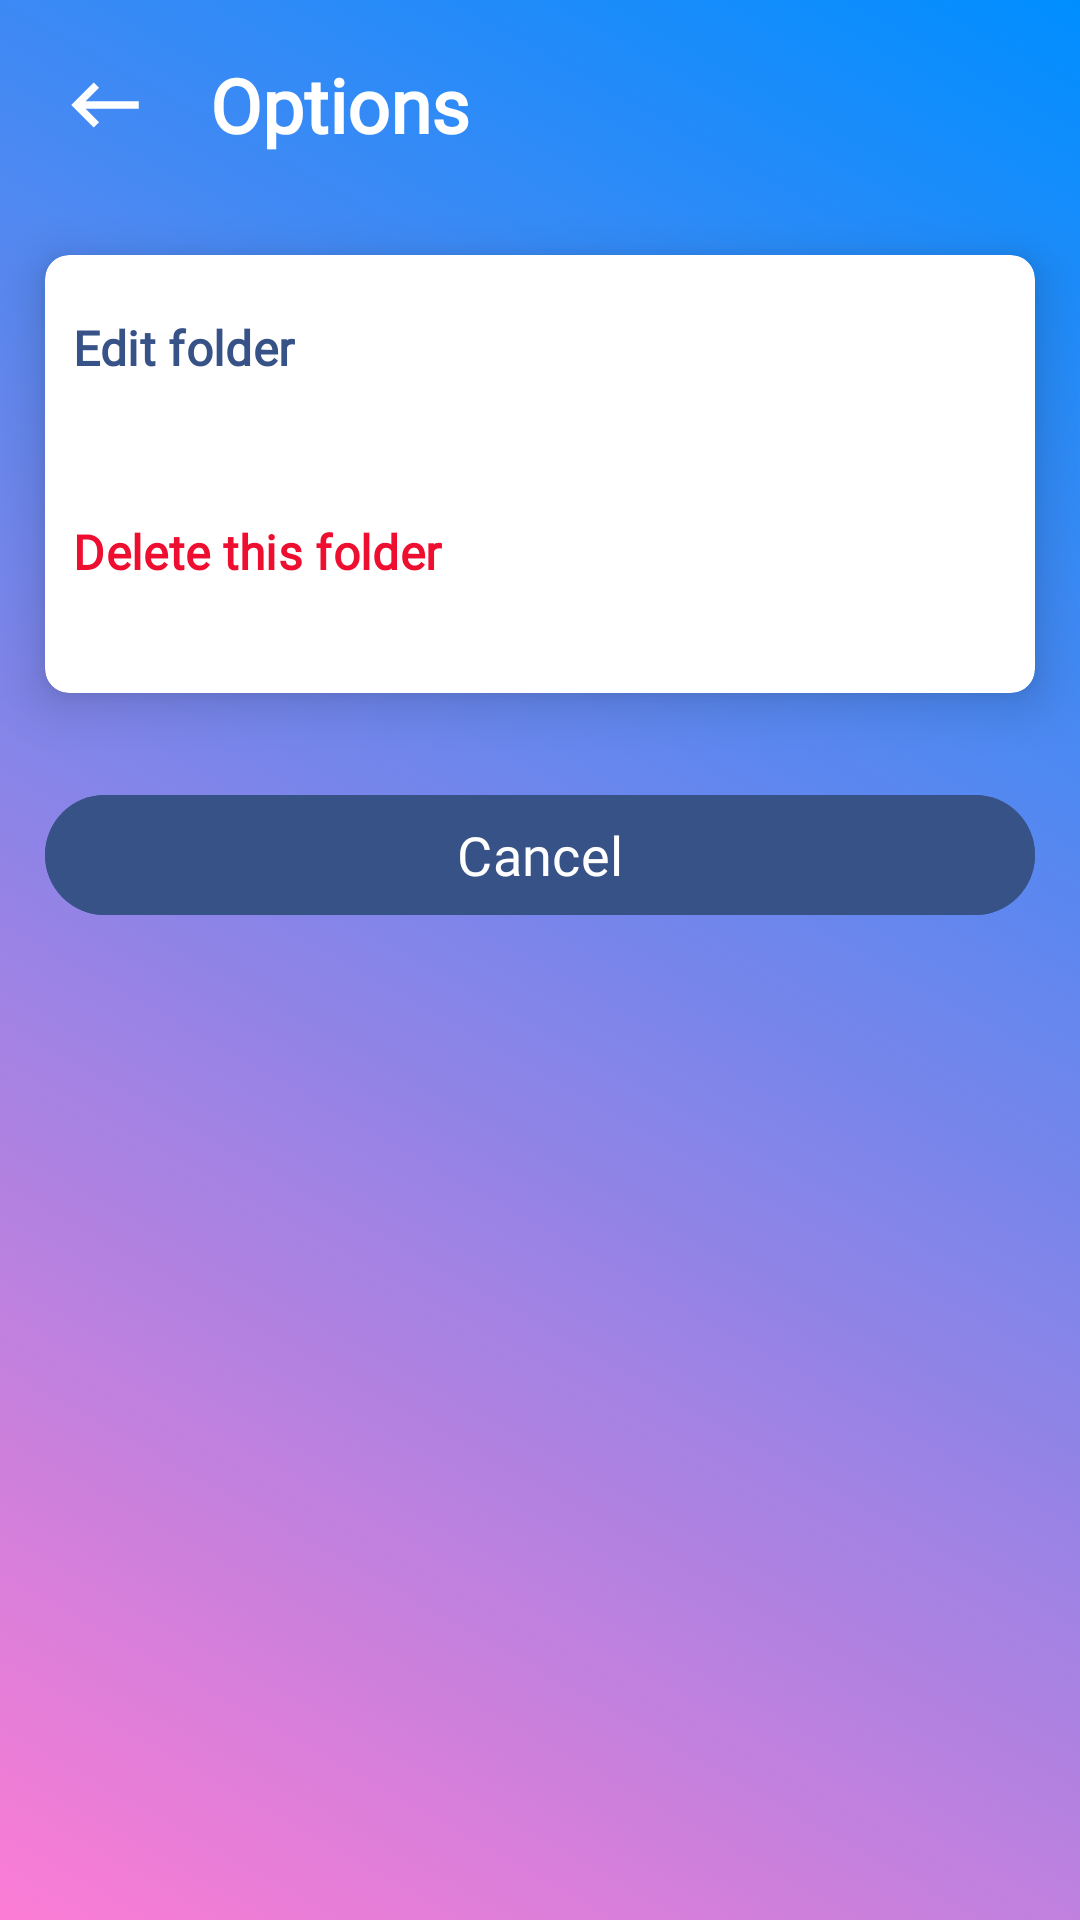

Where icons sit on this 1080x1920 app screen, as (x1, y1, x2, y2):
keyboard backspace: (71, 82, 139, 128)
